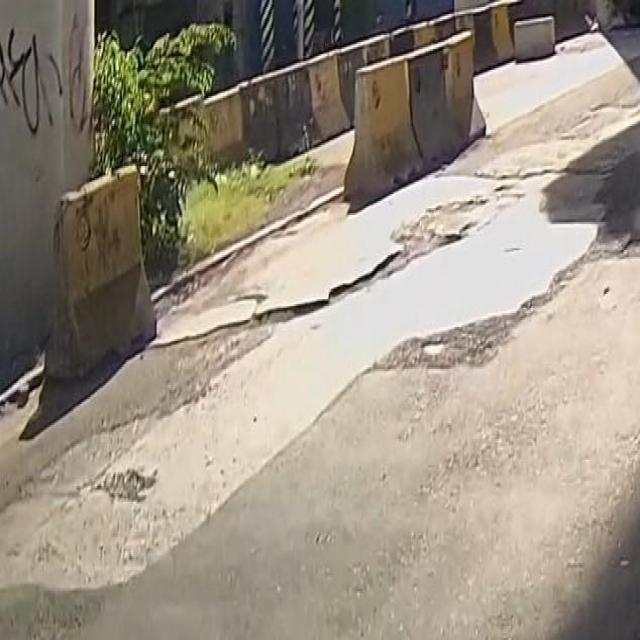Pothole: (208, 216, 478, 340)
